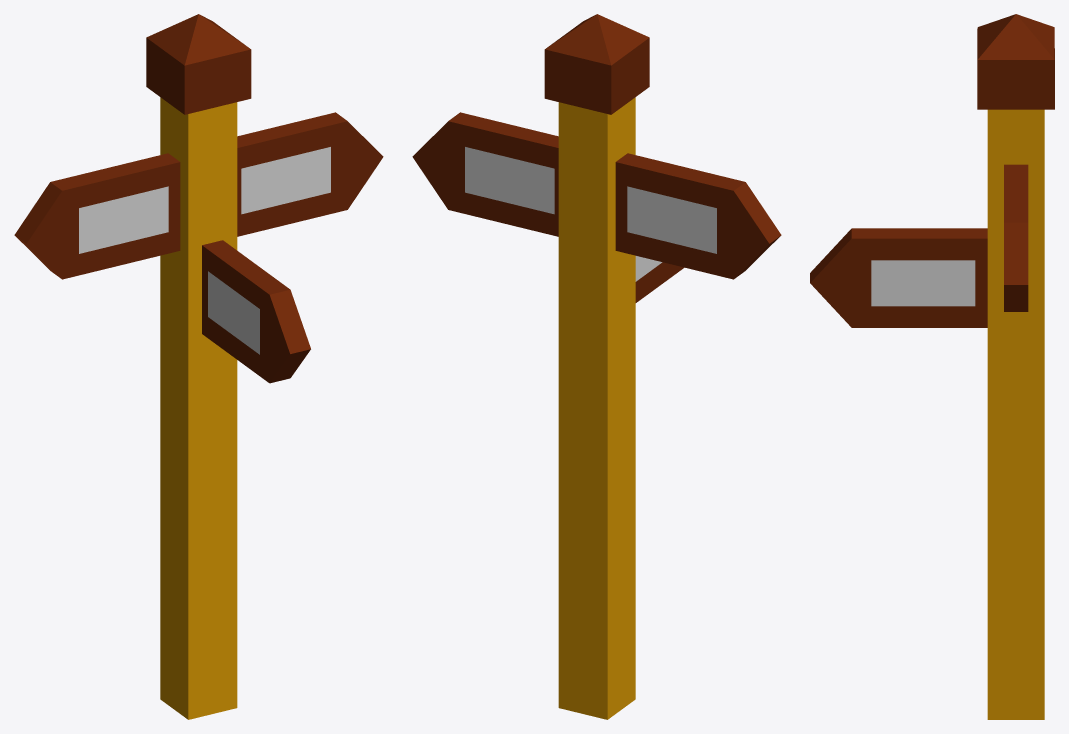
Rendered from Direction_pole_2.FBX.
The picture shows the model from 3 angles, left to right: view 1: azimuth 30°, elevation 25°; view 2: azimuth 150°, elevation 25°; view 3: azimuth 270°, elevation 25°; orthographic projection.
Visible parts, largest first — view 1: Direction_pole_2; view 2: Direction_pole_2; view 3: Direction_pole_2.
Part boxes in pixels (box(x1,y1,x2,y2)): Direction_pole_2: box(14, 14, 383, 719); Direction_pole_2: box(412, 14, 781, 719); Direction_pole_2: box(810, 14, 1054, 719).
Size of the model in its own units: 1.01 by 1.86 by 0.5955.
1 material, 1 textured.
